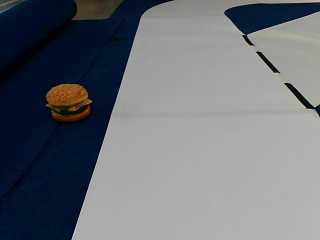burger: (44, 82, 92, 122)
